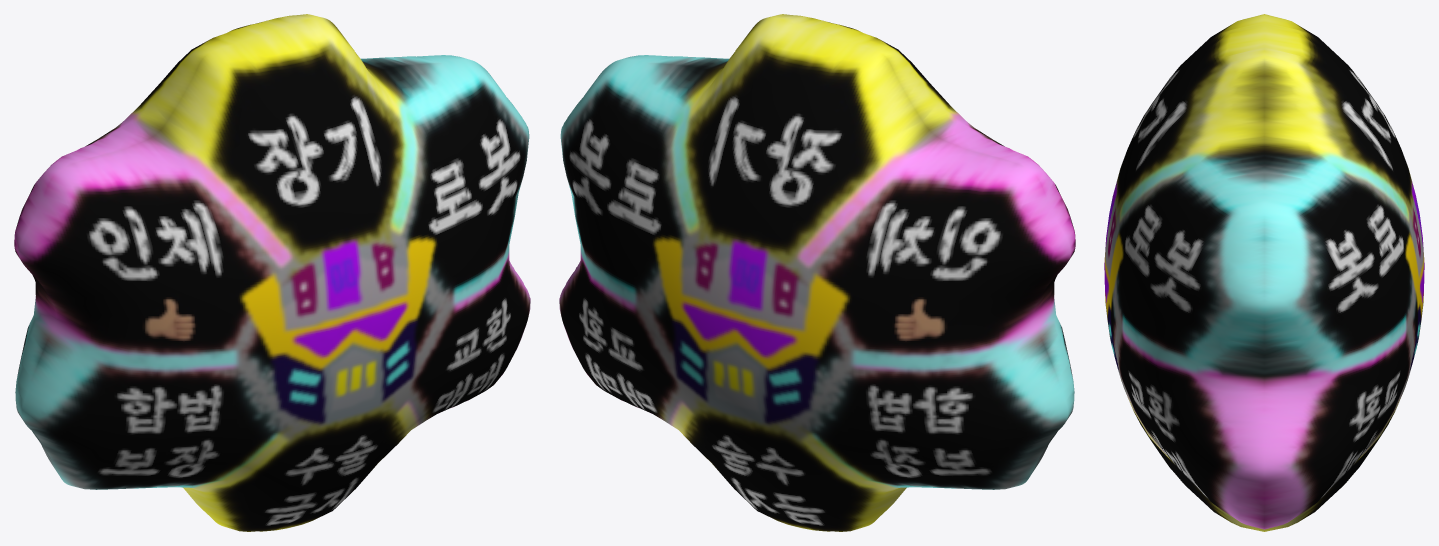
File: neonsign.glb
3 views of the same model, side by side, from view 1: azimuth 30°, elevation 25°; view 2: azimuth 150°, elevation 25°; view 3: azimuth 270°, elevation 25° (orthographic). The views are drawn at different scales.
Visible parts, largest first — view 1: Mesh_0.008; view 2: Mesh_0.008; view 3: Mesh_0.008.
Boxes of the visible parts, x1,y1,x2,y2 form: Mesh_0.008: (14,14,530,531); Mesh_0.008: (559,14,1075,531); Mesh_0.008: (1104,14,1424,531).
Size of the model in its own units: 257 by 239 by 144.
Materials: 1 (1 with a texture image).
